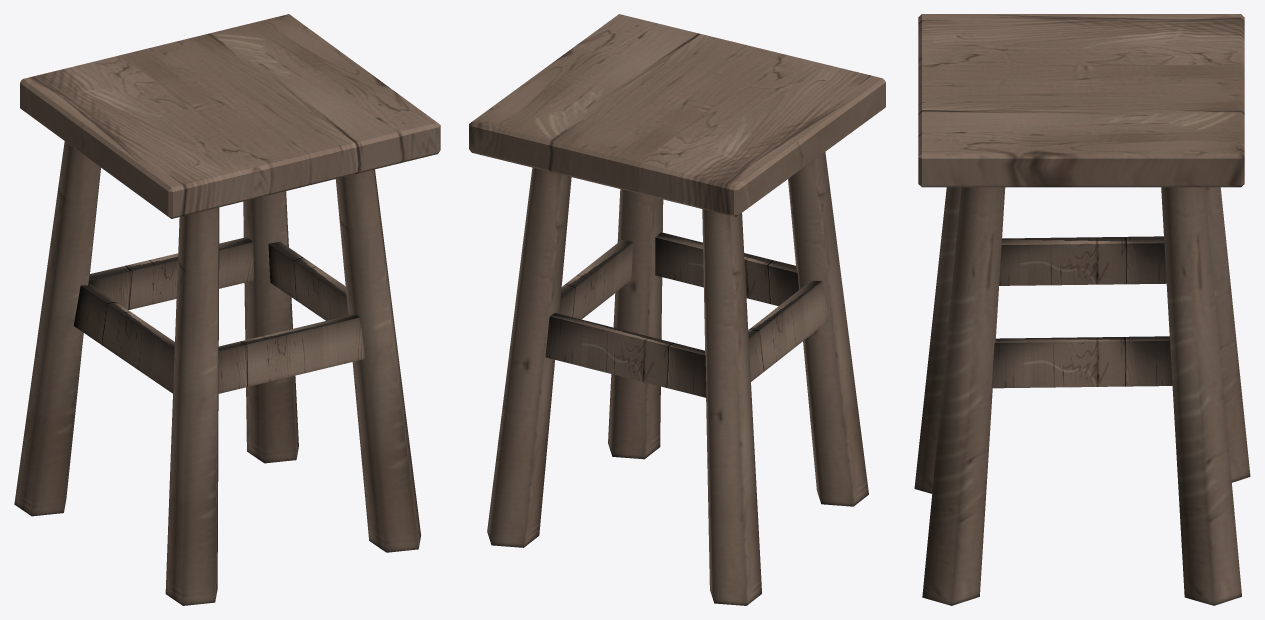
Rendered from stool2.fbx.
The picture shows the model from 3 angles, left to right: view 1: azimuth 30°, elevation 25°; view 2: azimuth 150°, elevation 25°; view 3: azimuth 270°, elevation 25°; orthographic projection. The views are drawn at different scales.
Visible parts, largest first — view 1: polySurface1812; view 2: polySurface1812; view 3: polySurface1812.
Part boxes in pixels (x1,y1,x2,y2): polySurface1812: [14, 14, 440, 605]; polySurface1812: [469, 14, 885, 605]; polySurface1812: [914, 14, 1250, 605].
Bounding box in the file's own units: 36.26 × 52.45 × 35.2.
